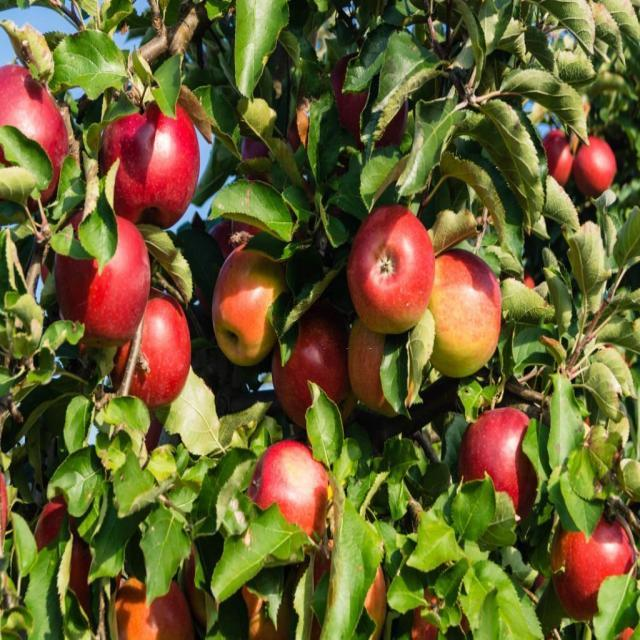Red Apple: (57, 201, 147, 334), (105, 100, 200, 214), (426, 247, 504, 379), (278, 290, 356, 420), (351, 207, 436, 325), (252, 440, 337, 550), (1, 64, 72, 192), (558, 508, 640, 618), (467, 401, 544, 512), (117, 294, 187, 410), (215, 247, 290, 352), (349, 313, 418, 423), (111, 569, 185, 640), (577, 134, 620, 196), (546, 126, 580, 179)
